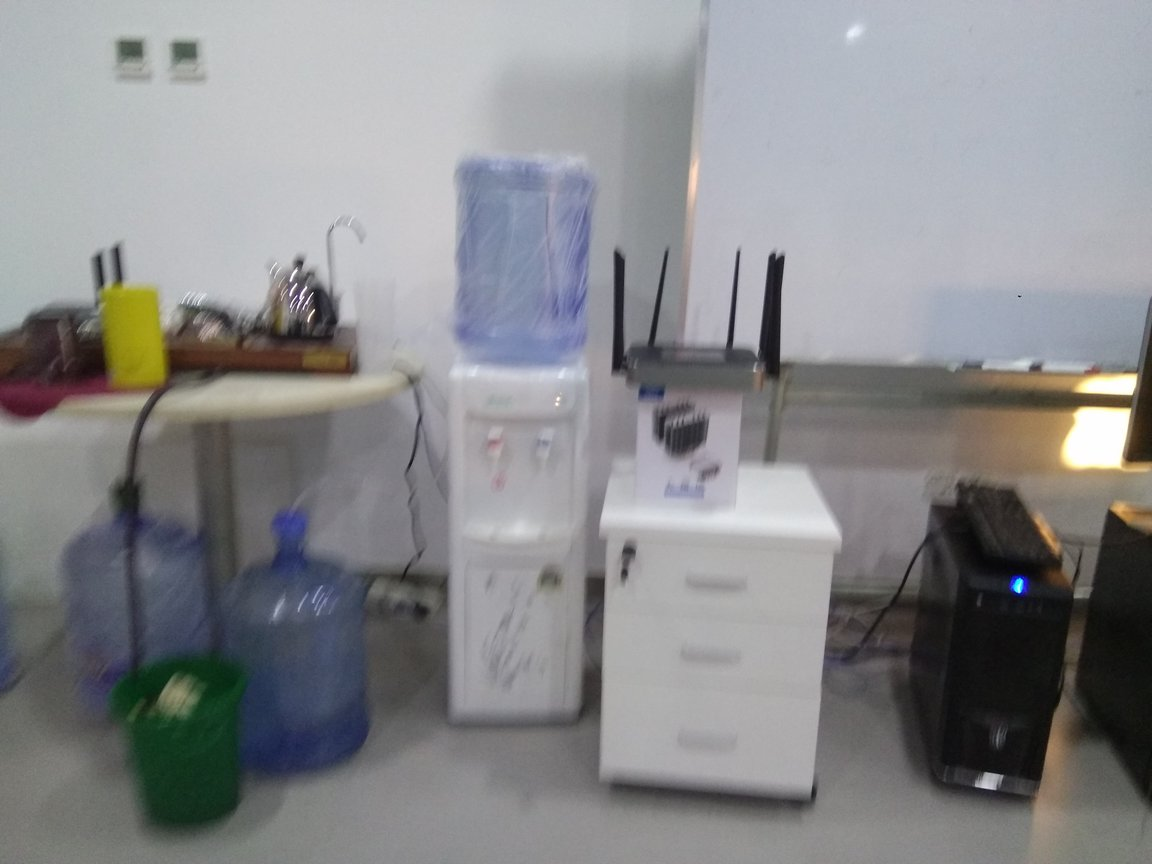computer: (912, 498, 1067, 806)
drawer chest: (599, 448, 830, 814)
scuttlebutt: (223, 509, 374, 788), (55, 481, 208, 741), (450, 146, 602, 362)
water dispenser: (433, 353, 585, 743)
